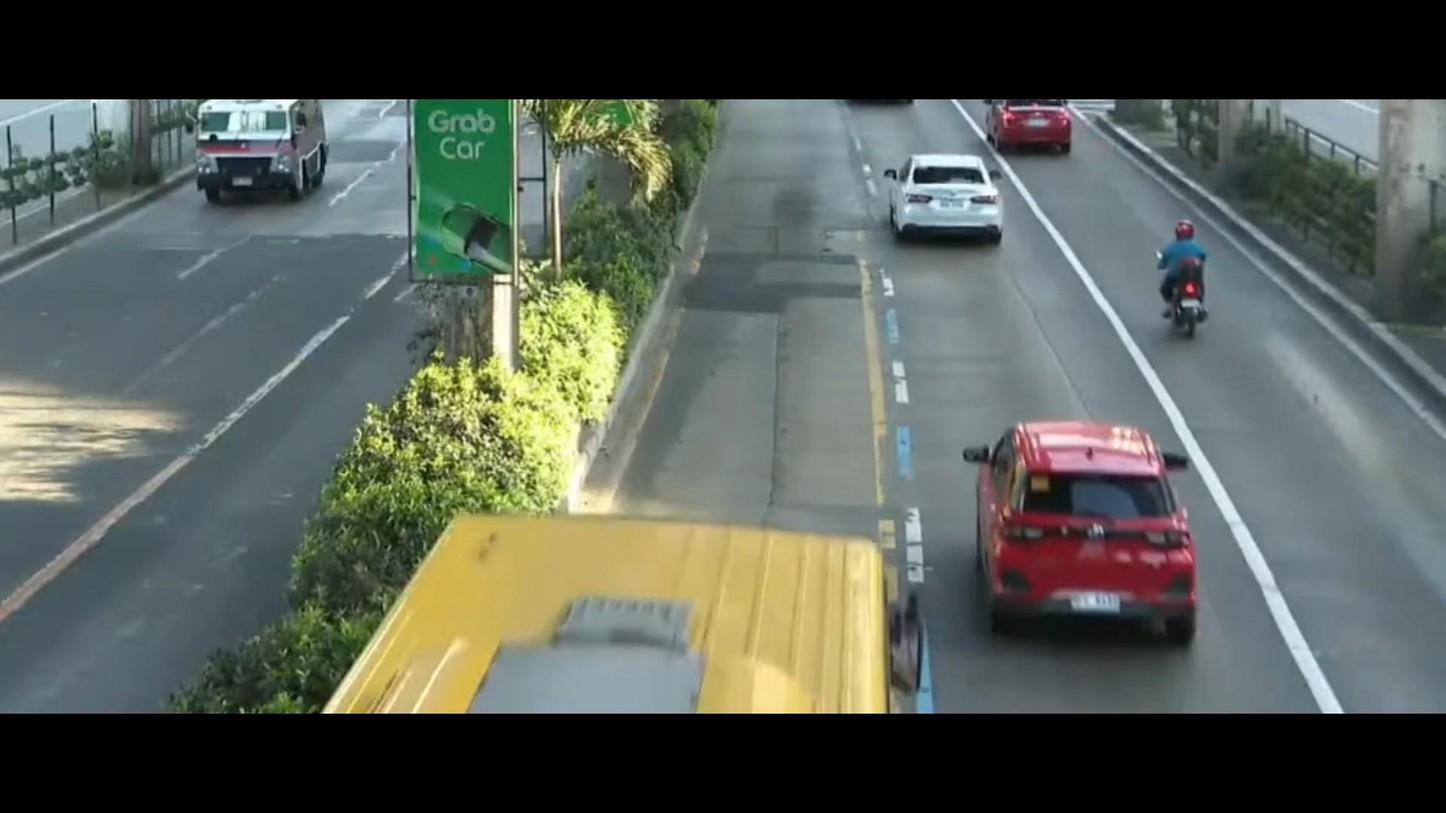Bus: (326, 485, 939, 717)
Motorcycle: (1132, 214, 1231, 342)
SUV: (937, 407, 1226, 649), (983, 105, 1085, 161)
Sedan: (861, 149, 1015, 270)
Truck: (171, 101, 337, 228)
